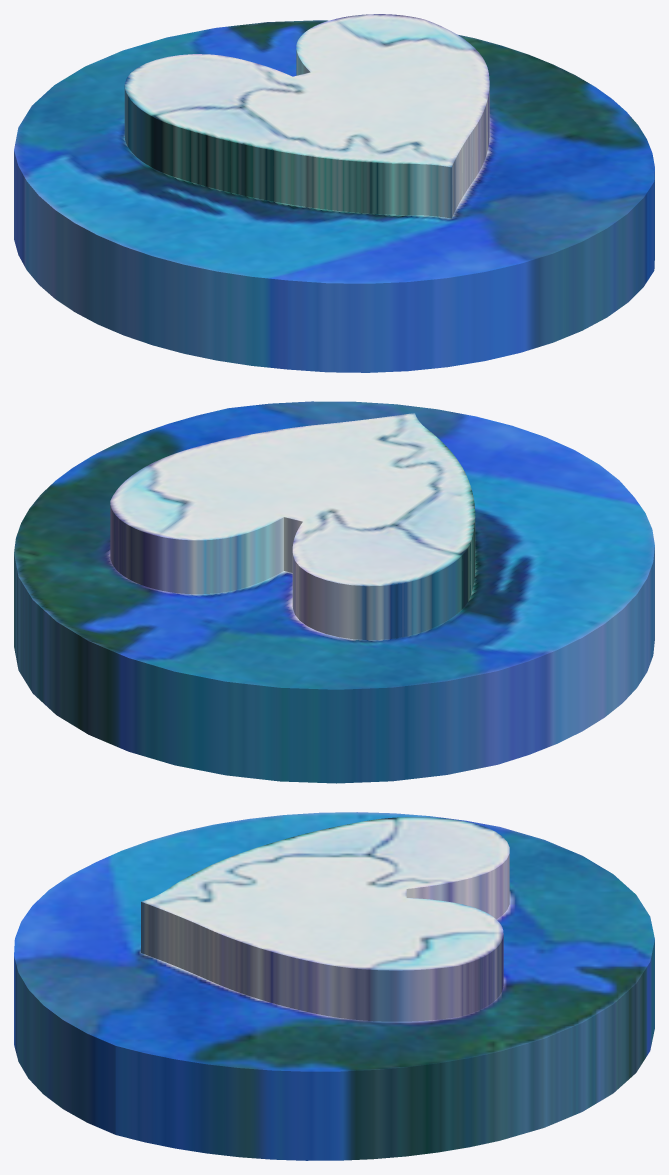
The model's file is el hombre y la ciencia 7.dae.
3 renders of one model, top to bottom at view 1: azimuth 30°, elevation 25°; view 2: azimuth 150°, elevation 25°; view 3: azimuth 270°, elevation 25°, orthographic. The views are drawn at different scales.
Visible parts, largest first — view 1: SketchUp (×2); view 2: SketchUp (×2); view 3: SketchUp (×2).
Part boxes in pixels (<box>): SketchUp (×2): <box>14,14,654,372</box>; SketchUp (×2): <box>14,401,654,783</box>; SketchUp (×2): <box>14,812,654,1160</box>.
Size of the model in its own units: 18.34 by 19.14 by 4.62.
1 material, 1 textured.
